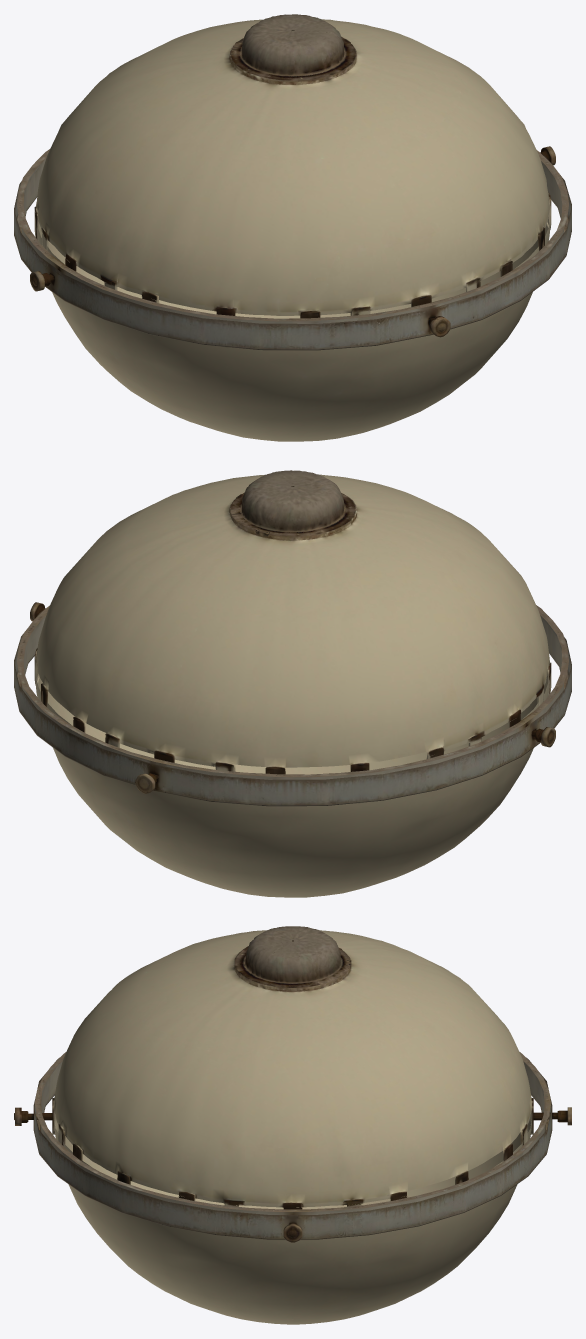
The model's file is ceiling+light+3d+model.fbx.
3 renders of one model, top to bottom at view 1: azimuth 30°, elevation 25°; view 2: azimuth 150°, elevation 25°; view 3: azimuth 270°, elevation 25°, orthographic. The views are drawn at different scales.
Parts seen in each view (by area): view 1: tripo_node_0625296d; view 2: tripo_node_0625296d; view 3: tripo_node_0625296d.
Boxes of the visible parts, left/top/right/bottom form: tripo_node_0625296d: left=14, top=14, right=571, bottom=441; tripo_node_0625296d: left=14, top=470, right=571, bottom=897; tripo_node_0625296d: left=14, top=926, right=571, bottom=1324.
Bounding box in the file's own units: 1 × 0.7143 × 1.
Materials: 1 (1 with a texture image).
